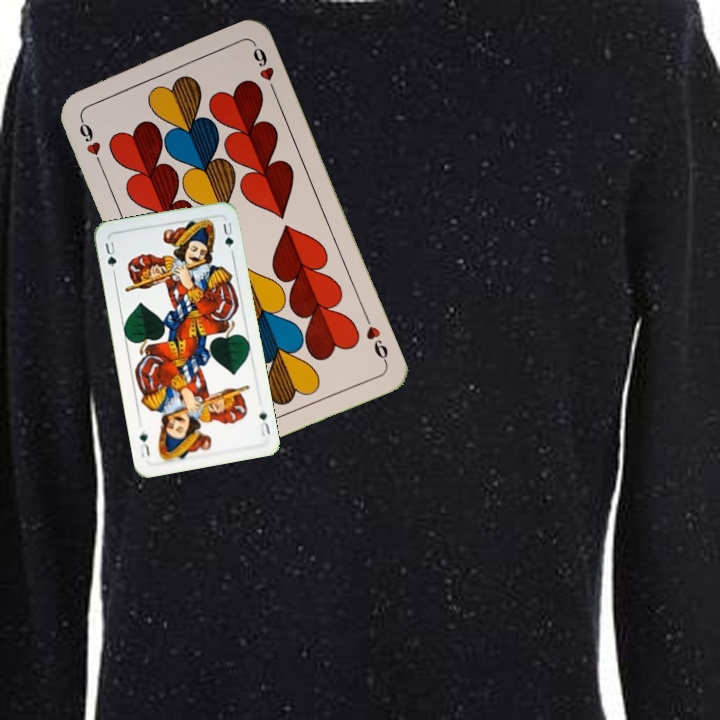GU: (255, 405, 273, 439), (101, 238, 119, 270)
H9: (360, 310, 391, 366), (75, 113, 105, 170)
